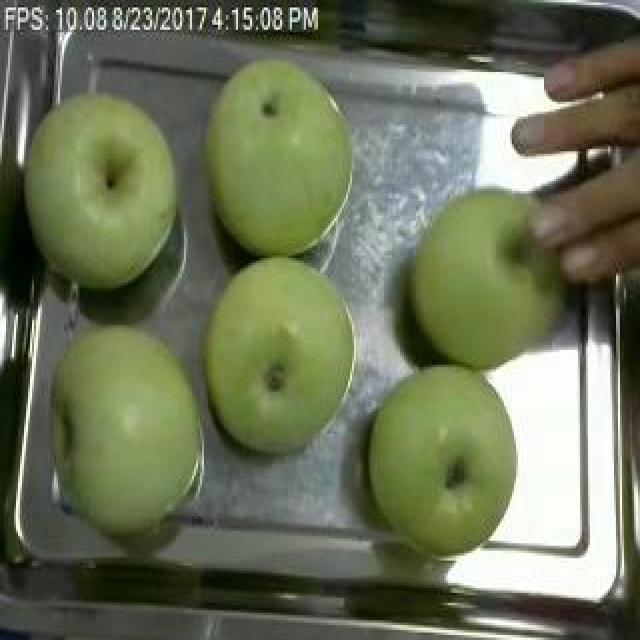Rotten Apple: (195, 246, 371, 471), (199, 47, 369, 261), (56, 326, 216, 525), (20, 86, 180, 282), (363, 371, 513, 562)
